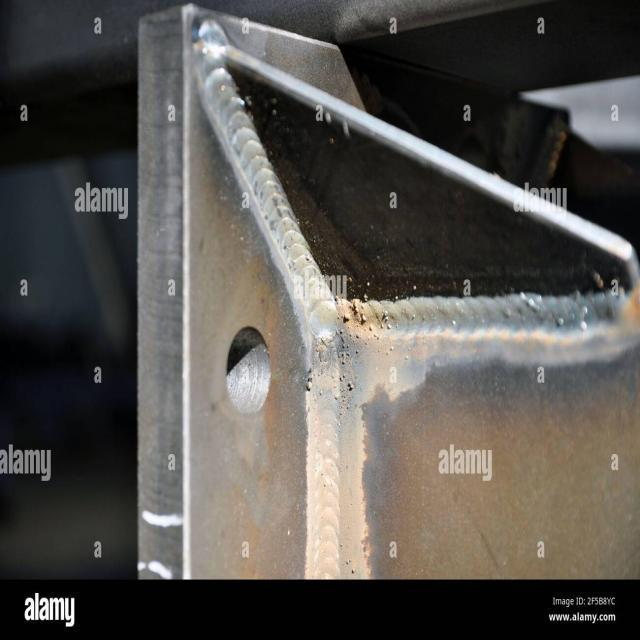Porosity: (335, 300, 393, 340), (334, 329, 360, 366), (348, 376, 358, 393), (304, 378, 314, 393), (333, 389, 342, 402), (338, 372, 347, 382)
